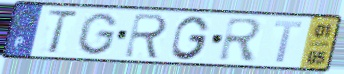G: (74, 11, 120, 57), (169, 15, 212, 62)
R: (121, 12, 171, 61), (216, 16, 265, 63)
T: (45, 9, 80, 56), (272, 19, 305, 65)
